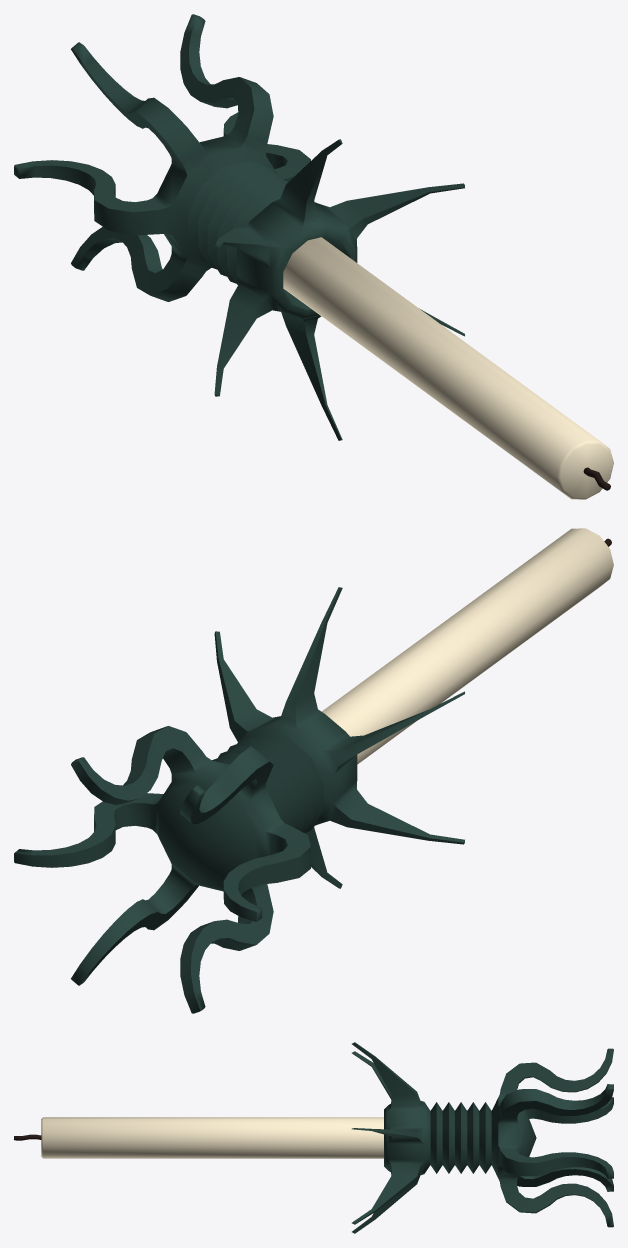
The model's file is candelstik.obj.
3 renders of one model, top to bottom at view 1: azimuth 30°, elevation 25°; view 2: azimuth 150°, elevation 25°; view 3: azimuth 270°, elevation 25°, orthographic. The views are drawn at different scales.
Visible parts, largest first — view 1: Object__0; view 2: Object__0; view 3: Object__0.
Boxes of the visible parts, bbox=[...] form: Object__0: bbox=[14, 14, 613, 499]; Object__0: bbox=[14, 528, 613, 1013]; Object__0: bbox=[14, 1042, 613, 1233].
Size of the model in its own units: 0.0875 by 0.1006 by 0.2863.
